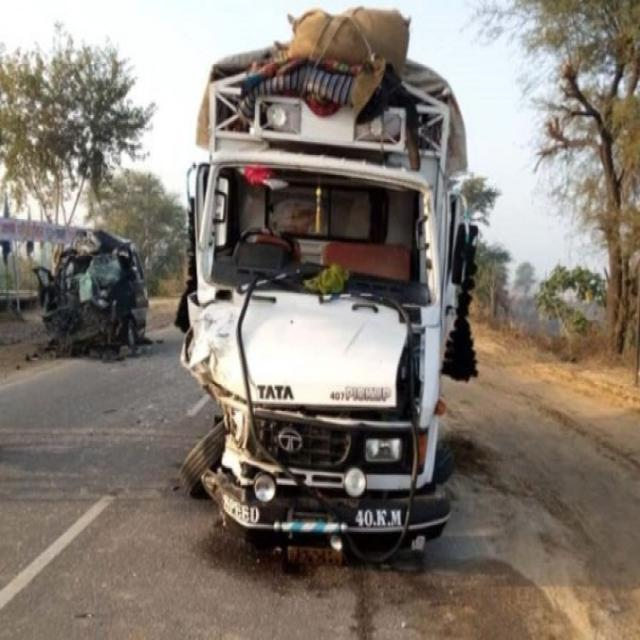accident: (176, 8, 478, 562)
